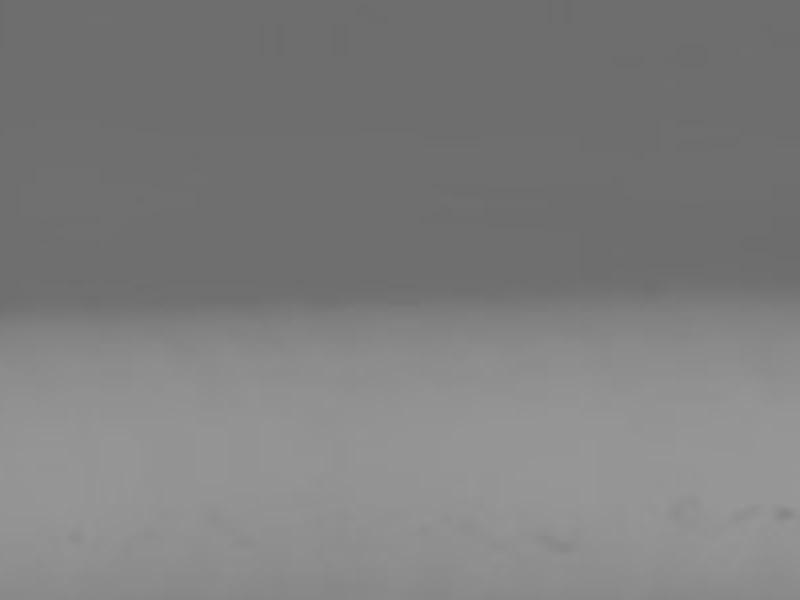defect: (664, 492, 699, 527), (532, 530, 575, 550), (727, 500, 763, 520), (777, 502, 800, 523), (63, 527, 84, 545)
